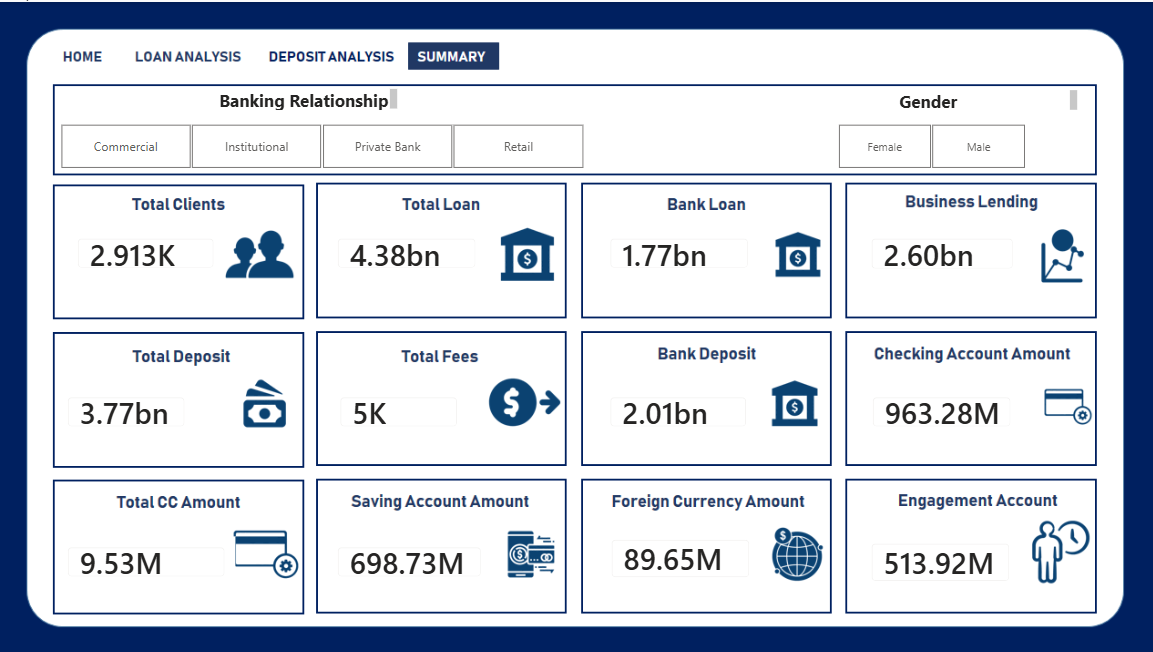

What the dashboard file says about the page in this screenshot:
{"tool":"powerbi","page":{"name":"Summary","canvas":[1280,720],"ordinal":3},"visuals":[{"type":"actionButton","box":[51.2,39.1,99.3,40.6],"z":0},{"type":"actionButton","box":[150.4,39.1,129.4,40.6],"z":1000},{"type":"actionButton","box":[305.4,39.1,142.9,40.6],"z":2000},{"type":"actionButton","box":[458.9,39.1,99.3,40.6],"z":3000},{"type":"slicer","fields":{"Values":["Clients - Banking.BRId"]},"box":[52.7,127.9,622.9,61.7],"z":4000},{"type":"slicer","fields":{"Values":["Clients - Banking.GenderId"]},"box":[905.7,127.9,254.3,61.7],"z":5000},{"type":"textbox","box":[246.7,90.3,204.6,33.1],"z":6000},{"type":"textbox","box":[993,91.8,204.6,33.1],"z":7000},{"type":"cardVisual","fields":{"Data":["Count(Clients - Banking.Name)"]},"box":[79.7,242.2,183.5,66.2],"z":8000},{"type":"cardVisual","fields":{"Data":["Clients - Banking.Total Loan"]},"box":[365.6,242.2,185.1,66.2],"z":9000},{"type":"cardVisual","fields":{"Data":["Sum(Clients - Banking.Bank Loans)"]},"box":[663.5,242.2,185.1,66.2],"z":10000},{"type":"cardVisual","fields":{"Data":["Sum(Clients - Banking.Business Lending)"]},"box":[950.8,242.2,189.6,67.7],"z":11000},{"type":"cardVisual","fields":{"Data":["Clients - Banking.Total Deposit"]},"box":[69.2,416.7,162.5,66.2],"z":12000},{"type":"cardVisual","fields":{"Data":["Sum(Clients - Banking.Properties Owned)"]},"box":[367.1,416.7,162.5,66.2],"z":12001},{"type":"cardVisual","fields":{"Data":["Sum(Clients - Banking.Bank Deposits)"]},"box":[663.5,416.7,183.5,66.2],"z":12002},{"type":"cardVisual","fields":{"Data":["Sum(Clients - Banking.Checking Accounts)"]},"box":[952.3,416.7,185.1,66.2],"z":12003},{"type":"cardVisual","fields":{"Data":["Sum(Clients - Banking.Credit Card Balance)"]},"box":[69.2,582.2,206.1,66.2],"z":12004},{"type":"cardVisual","fields":{"Data":["Sum(Clients - Banking.Saving Accounts)"]},"box":[365.6,582.2,191.1,66.2],"z":12005},{"type":"cardVisual","fields":{"Data":["Sum(Clients - Banking.Foreign Currency Account)"]},"box":[665,573.2,185.1,75.2],"z":12006},{"type":"cardVisual","fields":{"Data":["Sum(Clients - Banking.Estimated Income)"]},"box":[950.8,577.7,185.1,75.2],"z":12007}]}

Visuals, with their boxes in screenshot pixels (x1, y1, x2, y2), scaled from the page's 1280x720 canvas onto the 1153x652 screenshot:
actionButton: bbox(46, 35, 136, 72)
actionButton: bbox(135, 35, 252, 72)
actionButton: bbox(275, 35, 404, 72)
actionButton: bbox(413, 35, 503, 72)
slicer - Clients - Banking.BRId: bbox(47, 116, 609, 172)
slicer - Clients - Banking.GenderId: bbox(816, 116, 1045, 172)
textbox: bbox(222, 82, 407, 112)
textbox: bbox(894, 83, 1079, 113)
cardVisual - Count(Clients - Banking.Name): bbox(72, 219, 237, 279)
cardVisual - Clients - Banking.Total Loan: bbox(329, 219, 496, 279)
cardVisual - Sum(Clients - Banking.Bank Loans): bbox(598, 219, 764, 279)
cardVisual - Sum(Clients - Banking.Business Lending): bbox(856, 219, 1027, 281)
cardVisual - Clients - Banking.Total Deposit: bbox(62, 377, 209, 437)
cardVisual - Sum(Clients - Banking.Properties Owned): bbox(331, 377, 477, 437)
cardVisual - Sum(Clients - Banking.Bank Deposits): bbox(598, 377, 763, 437)
cardVisual - Sum(Clients - Banking.Checking Accounts): bbox(858, 377, 1025, 437)
cardVisual - Sum(Clients - Banking.Credit Card Balance): bbox(62, 527, 248, 587)
cardVisual - Sum(Clients - Banking.Saving Accounts): bbox(329, 527, 501, 587)
cardVisual - Sum(Clients - Banking.Foreign Currency Account): bbox(599, 519, 766, 587)
cardVisual - Sum(Clients - Banking.Estimated Income): bbox(856, 523, 1023, 591)
